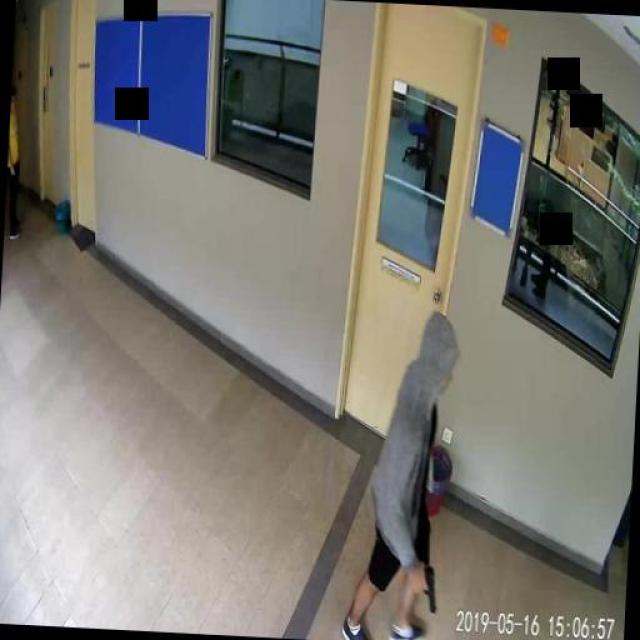gun: (408, 561, 437, 610)
